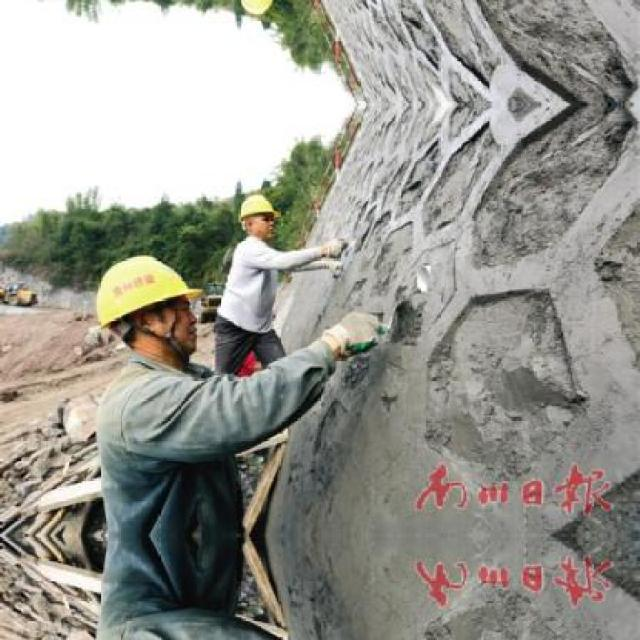helmet: (84, 243, 205, 372), (237, 190, 280, 241), (237, 0, 281, 17)
